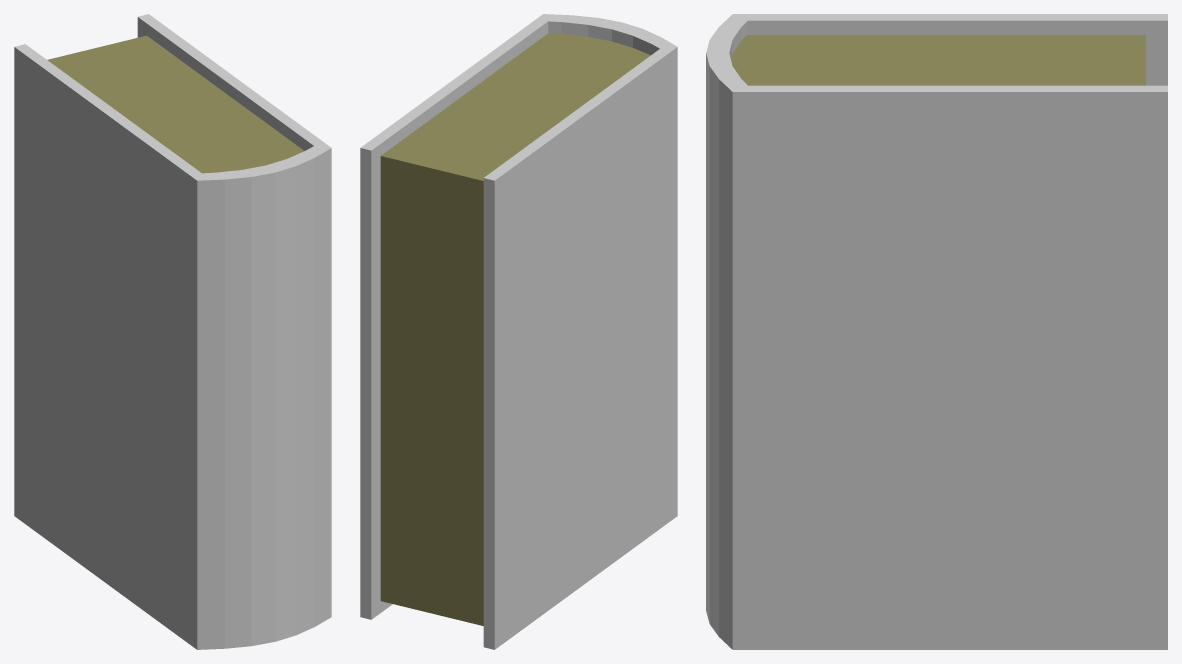
The model's file is libro.glb.
3 views of the same model, side by side, from view 1: azimuth 30°, elevation 25°; view 2: azimuth 150°, elevation 25°; view 3: azimuth 270°, elevation 25° (orthographic). The views are drawn at different scales.
Visible parts, largest first — view 1: Cube; view 2: Cube; view 3: Cube.
Part boxes in pixels (bbox=[...]): Cube: bbox=[14, 14, 331, 649]; Cube: bbox=[360, 14, 677, 649]; Cube: bbox=[706, 14, 1167, 649].
Size of the model in its own units: 0.6 by 2 by 1.5.
